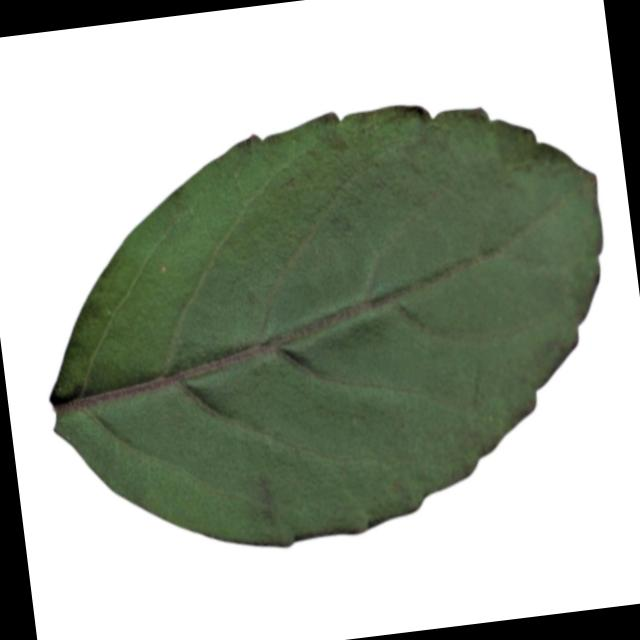tulsi: (16, 69, 640, 578)
